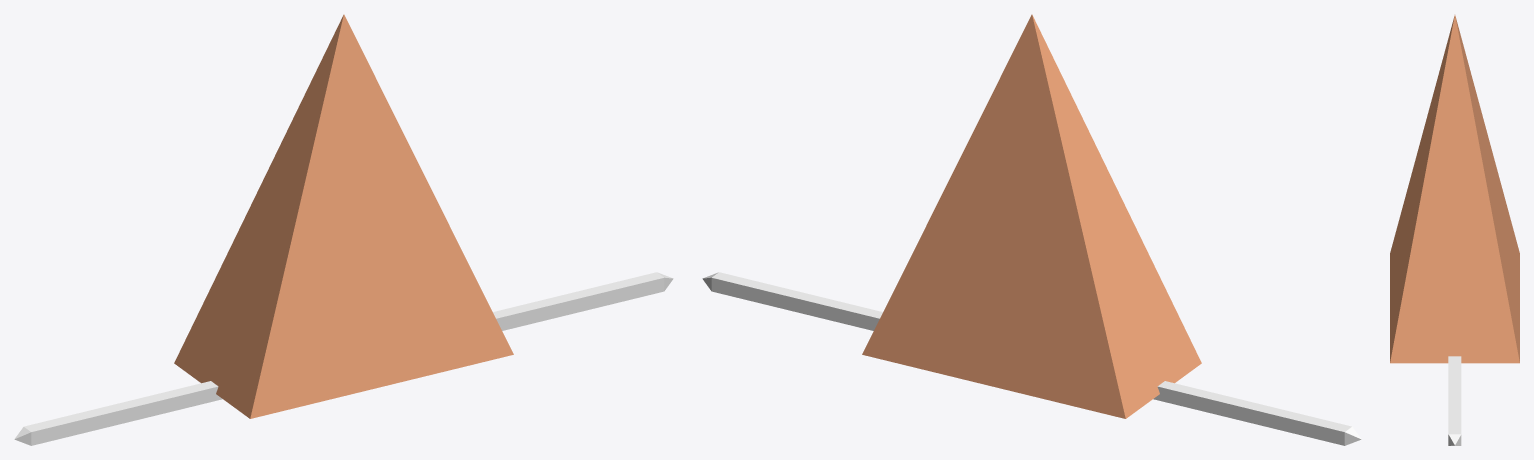
3 renders of one model, left to right at view 1: azimuth 30°, elevation 25°; view 2: azimuth 150°, elevation 25°; view 3: azimuth 270°, elevation 25°, orthographic. The views are drawn at different scales.
Parts seen in each view (by area): view 1: EQ_02, DEBUG_contiuous_line; view 2: EQ_02, DEBUG_contiuous_line; view 3: EQ_02, DEBUG_contiuous_line.
Boxes of the visible parts, x1=… form: EQ_02: x1=174, y1=14, x2=513, y2=418; DEBUG_contiuous_line: x1=14, y1=272, x2=673, y2=445; EQ_02: x1=862, y1=14, x2=1201, y2=418; DEBUG_contiuous_line: x1=702, y1=272, x2=1361, y2=445; EQ_02: x1=1390, y1=15, x2=1519, y2=363; DEBUG_contiuous_line: x1=1448, y1=356, x2=1461, y2=445.
Size of the model in its own units: 1 by 0.51 by 0.2.
